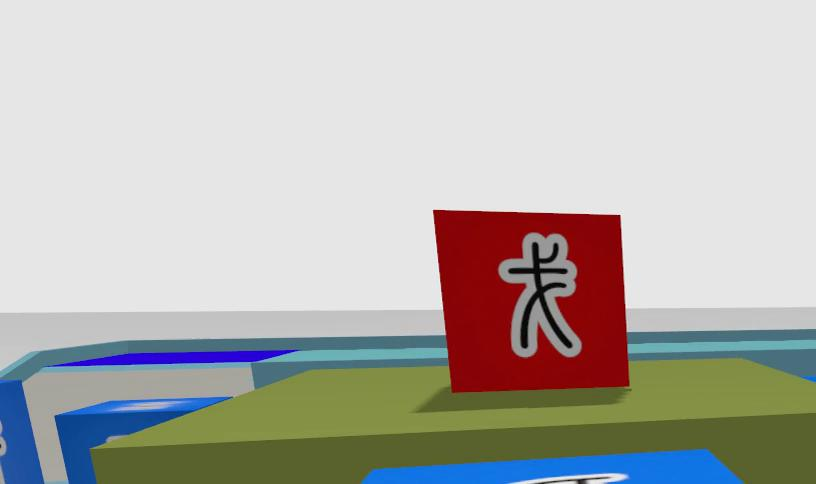KFS_FAKE: (433, 211, 627, 392), (500, 233, 580, 357)
KFS_REAL: (56, 398, 229, 484), (361, 452, 743, 484), (0, 380, 44, 484), (506, 473, 626, 484)
